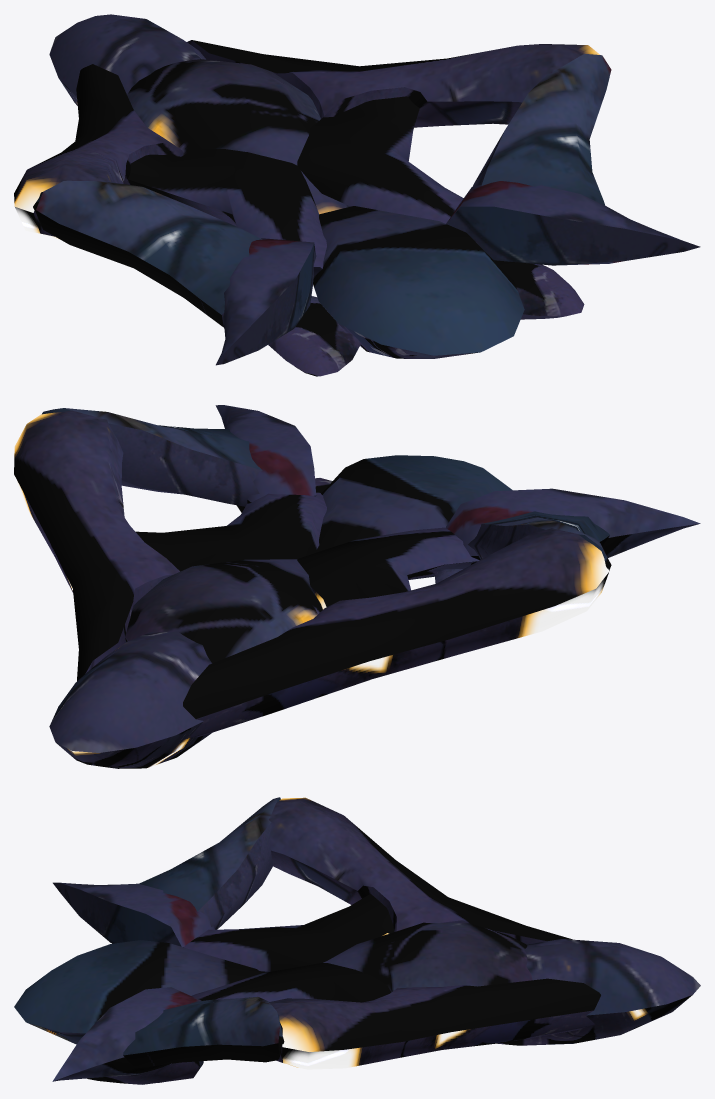
The model's file is ship18d.fbx.
The picture shows the model from 3 angles, top to bottom: view 1: azimuth 30°, elevation 25°; view 2: azimuth 150°, elevation 25°; view 3: azimuth 270°, elevation 25°; orthographic projection. The views are drawn at different scales.
Parts seen in each view (by area): view 1: PipelineFBX; view 2: PipelineFBX; view 3: PipelineFBX.
Boxes of the visible parts, x1,y1,x2,y2 form: PipelineFBX: [14, 14, 700, 376]; PipelineFBX: [14, 405, 700, 768]; PipelineFBX: [14, 797, 700, 1084].
Size of the model in its own units: 419 by 117 by 510.
1 material, 1 textured.
